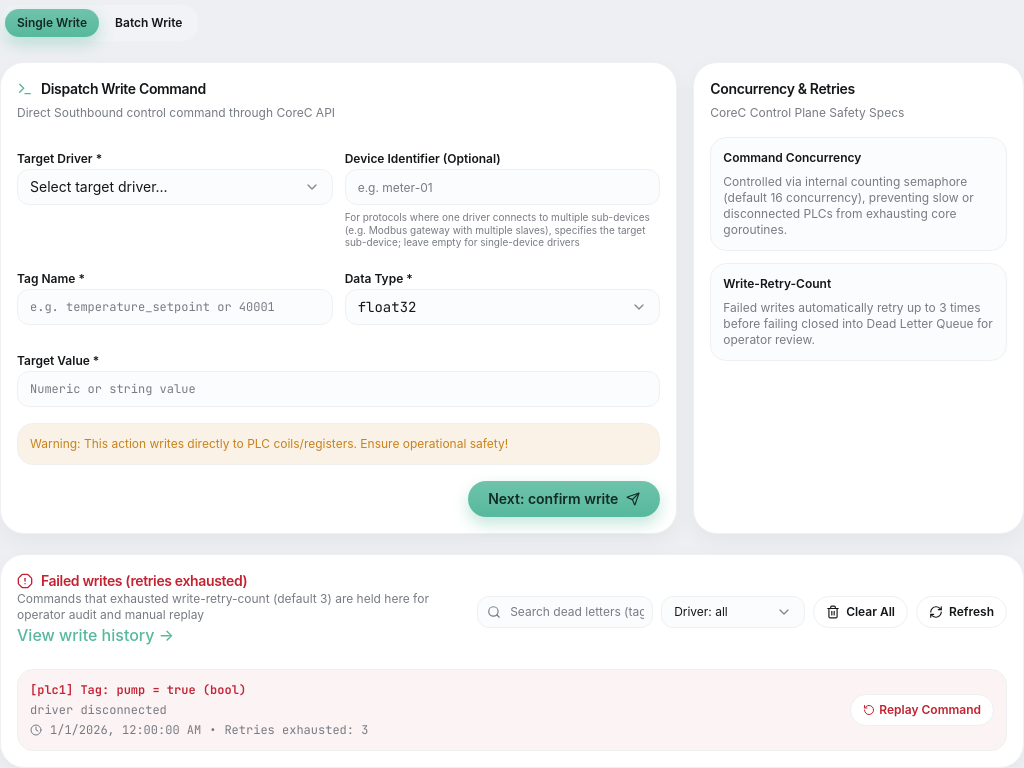
Scenario: WriteControlPage dead-letter replay gate › cancel in the replay dialog sends nothing
The image size is (1024, 768).
(page scrolled)
Expected: the text "[plc1] Tag: pump = true (bool)" is shown, [30,682,246,698]
Click the button "Replay Command": [922, 710] box [850,694,994,726]
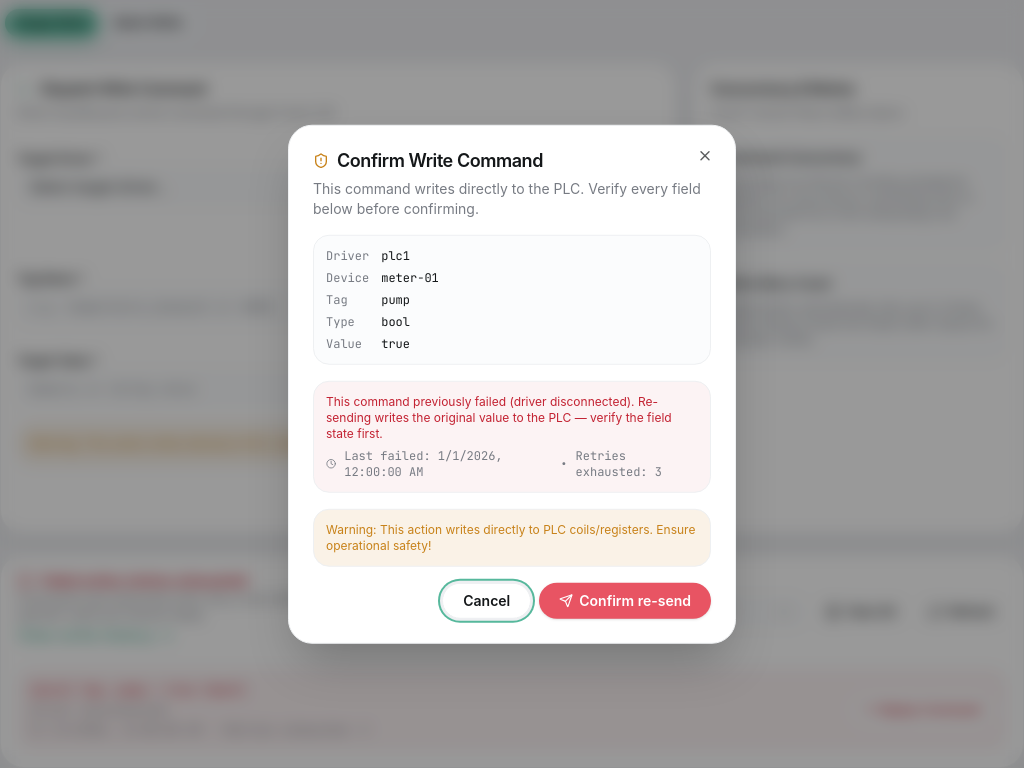
Result: the text "Confirm Write Command" is shown at [337,150,543,172]
Click the button "Cancel": [487, 600] box [442,582,531,618]
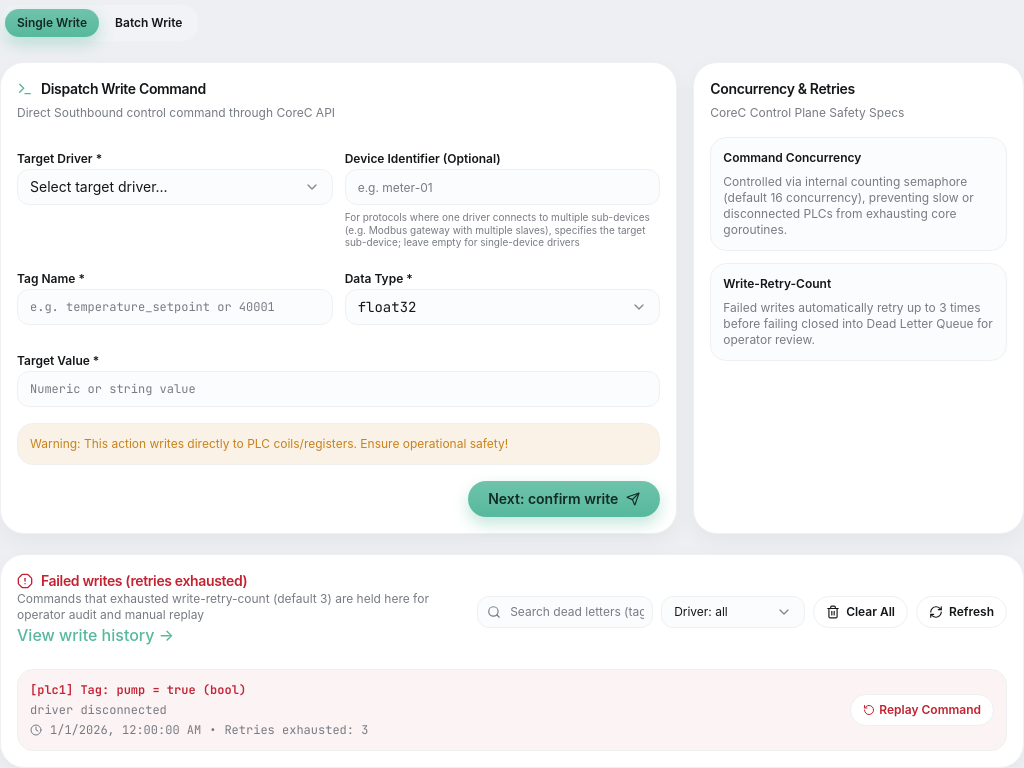
Result: the text "Confirm Write Command" is gone
